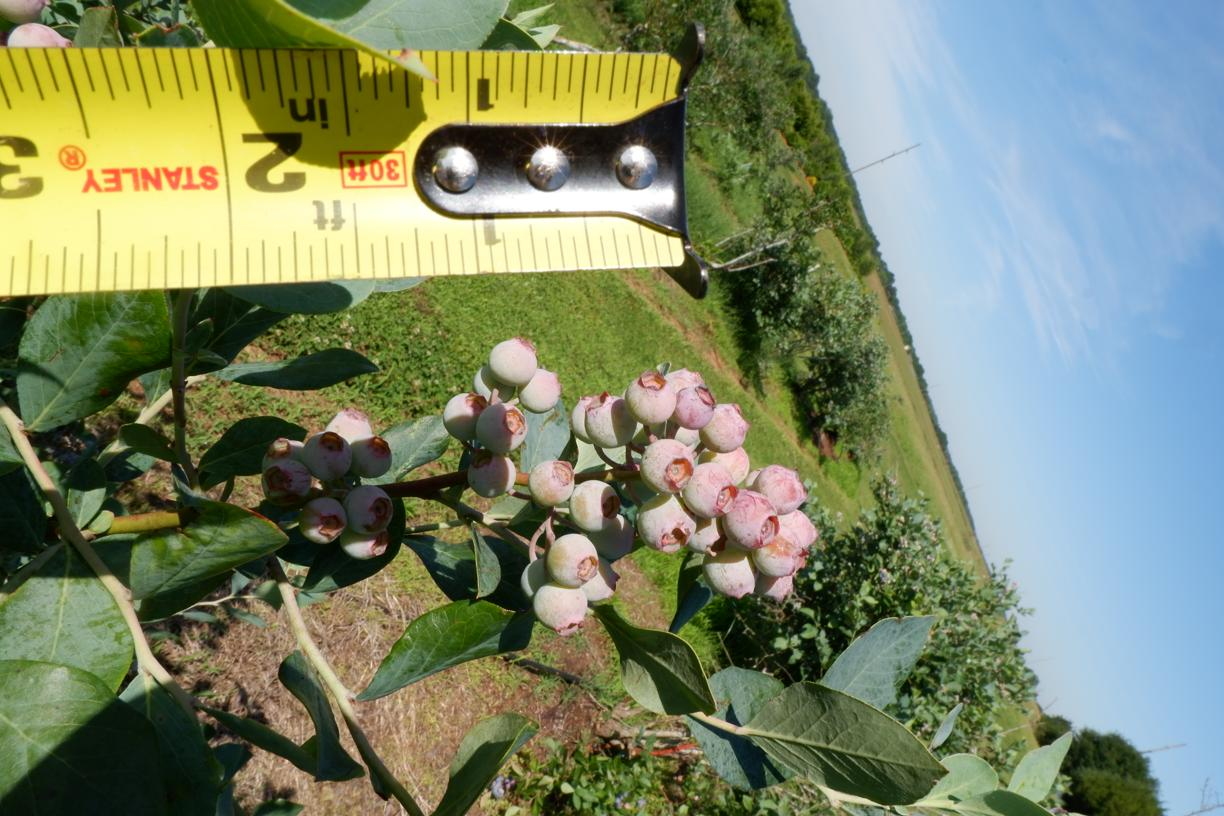Immature: (721, 489, 780, 551), (638, 494, 697, 554), (702, 536, 759, 598), (683, 461, 739, 520), (639, 438, 696, 495), (532, 580, 587, 637), (751, 524, 810, 577), (584, 391, 637, 448), (547, 532, 600, 588), (569, 479, 622, 532), (624, 371, 677, 424), (753, 464, 808, 515), (699, 403, 752, 453), (487, 336, 538, 387), (301, 431, 352, 481), (343, 485, 394, 535), (477, 403, 528, 451), (443, 391, 490, 442), (260, 460, 312, 506), (297, 497, 348, 543), (468, 450, 516, 498), (528, 460, 576, 508), (587, 514, 636, 559), (662, 415, 705, 463), (699, 446, 750, 486), (672, 385, 716, 429), (518, 369, 561, 414), (339, 523, 391, 560), (351, 434, 393, 479), (325, 407, 373, 445), (580, 557, 621, 600), (472, 366, 516, 405), (520, 557, 555, 605), (687, 516, 727, 557), (260, 438, 305, 474), (570, 395, 602, 443), (779, 509, 819, 547), (757, 570, 797, 604), (665, 367, 704, 392), (629, 422, 666, 446), (737, 467, 767, 491)
